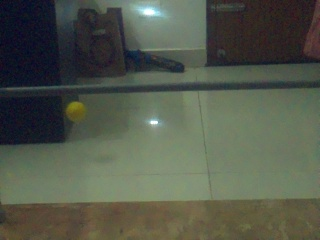ball: (66, 101, 85, 121)
